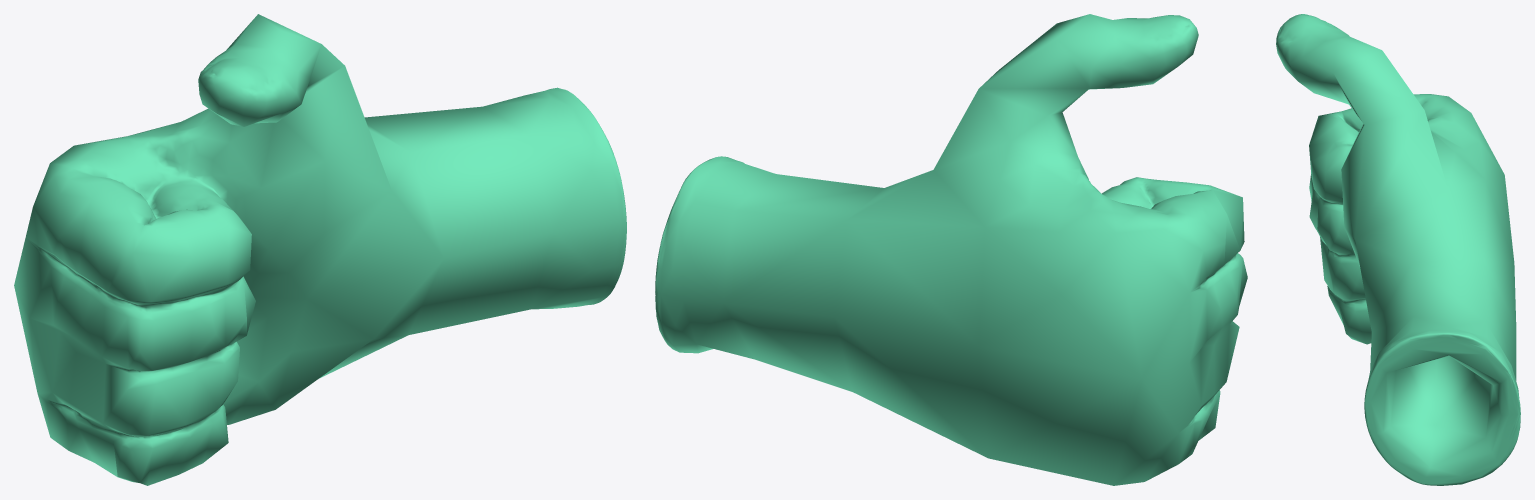
The model's file is punch.gltf.
The picture shows the model from 3 angles, left to right: view 1: azimuth 30°, elevation 25°; view 2: azimuth 150°, elevation 25°; view 3: azimuth 270°, elevation 25°; orthographic projection. The views are drawn at different scales.
Parts seen in each view (by area): view 1: 15809_Thumbs_Up_v1; view 2: 15809_Thumbs_Up_v1; view 3: 15809_Thumbs_Up_v1.
Boxes of the visible parts, x1,y1,x2,y2 form: 15809_Thumbs_Up_v1: (14, 14, 626, 485); 15809_Thumbs_Up_v1: (655, 14, 1247, 485); 15809_Thumbs_Up_v1: (1276, 14, 1520, 485).
Size of the model in its own units: 5.04 by 3.91 by 2.54.
